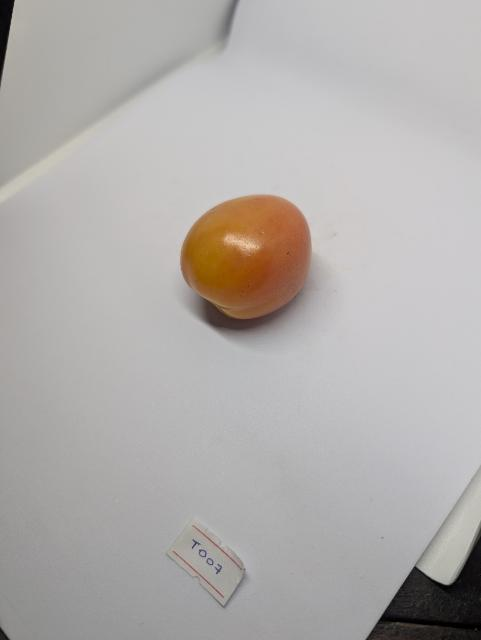turning: (171, 176, 322, 330)
